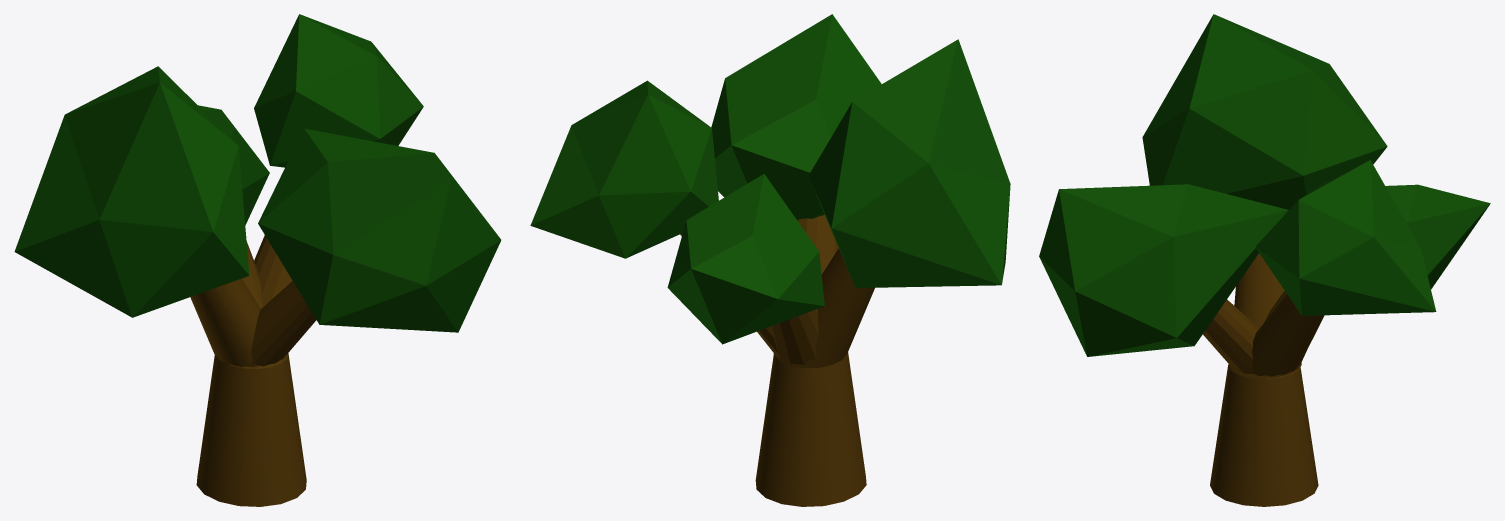
Rendered from Tree_2.fbx.
3 views of the same model, side by side, from view 1: azimuth 30°, elevation 25°; view 2: azimuth 150°, elevation 25°; view 3: azimuth 270°, elevation 25° (orthographic). The views are drawn at different scales.
Parts seen in each view (by area): view 1: pasted__polySurface8; view 2: pasted__polySurface8; view 3: pasted__polySurface8.
Part boxes in pixels (x1,y1,x2,y2): pasted__polySurface8: (14,14,501,506); pasted__polySurface8: (530,14,1010,506); pasted__polySurface8: (1039,14,1490,506).
Size of the model in its own units: 602 by 639 by 626.
